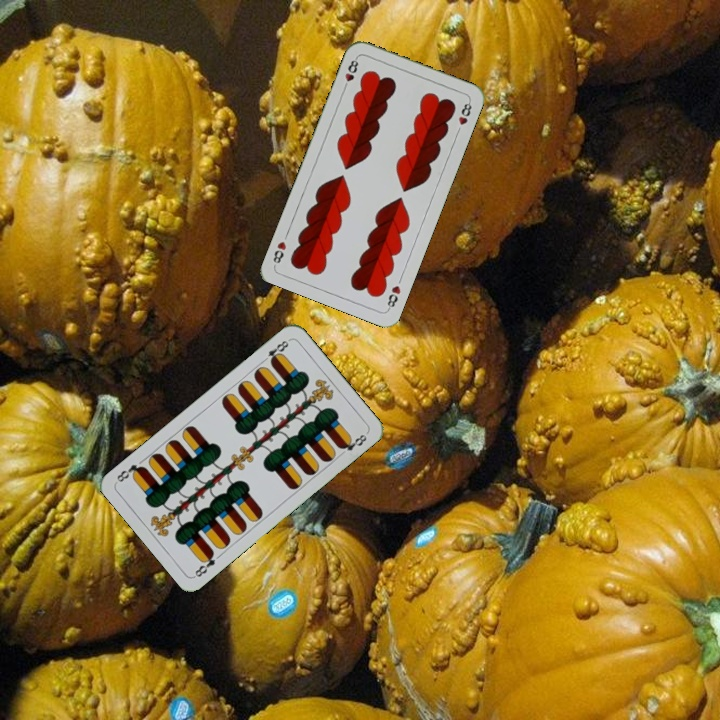E8: (258, 336, 292, 366), (191, 547, 218, 580)
H8: (339, 54, 361, 93), (383, 281, 403, 312)
